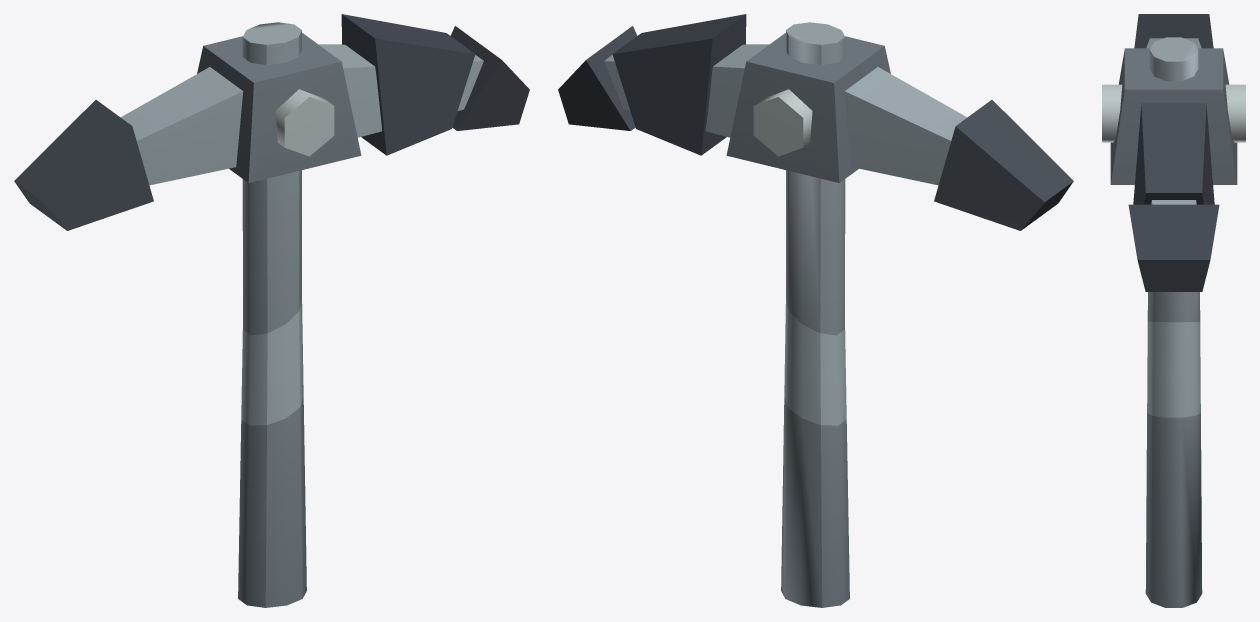
File: 05_pickaxe_Quarts.fbx
The picture shows the model from 3 angles, left to right: view 1: azimuth 30°, elevation 25°; view 2: azimuth 150°, elevation 25°; view 3: azimuth 270°, elevation 25°; orthographic projection. The views are drawn at different scales.
Visible parts, largest first — view 1: 05_pickaxe_Quarts; view 2: 05_pickaxe_Quarts; view 3: 05_pickaxe_Quarts.
Part boxes in pixels (x1=…): 05_pickaxe_Quarts: x1=14, y1=14, x2=529, y2=607; 05_pickaxe_Quarts: x1=558, y1=14, x2=1073, y2=607; 05_pickaxe_Quarts: x1=1102, y1=14, x2=1245, y2=607.
Bounding box in the file's own units: 101 × 112 × 26.76.
